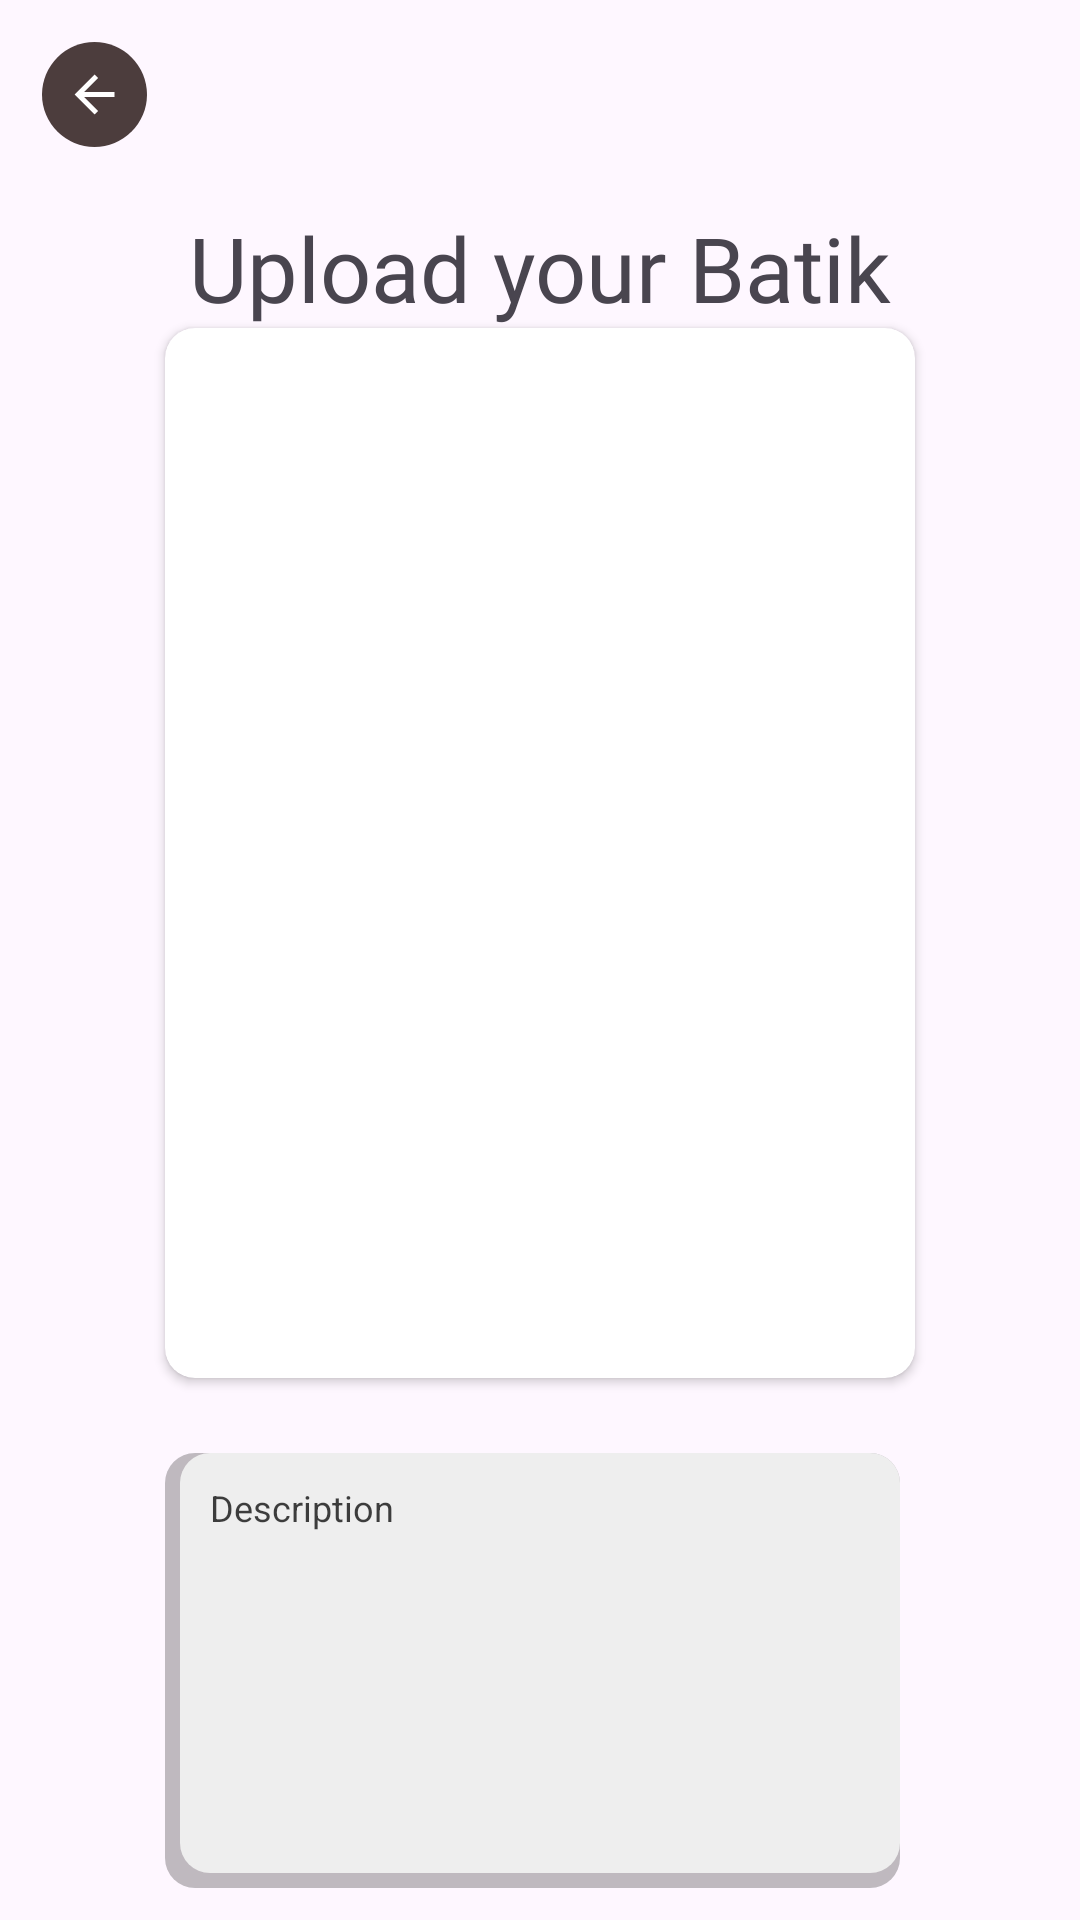

Named icons in this screenshot (1080px×1920px) and their centers, (x,y):
back: (94,94)
